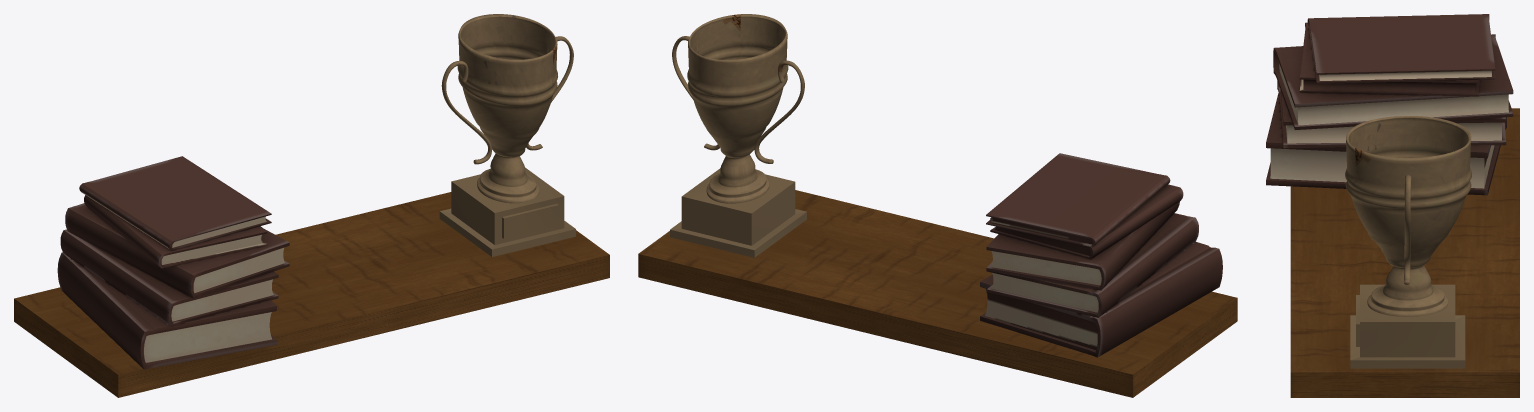
File: raft1_retopo_2.fbx
The picture shows the model from 3 angles, left to right: view 1: azimuth 30°, elevation 25°; view 2: azimuth 150°, elevation 25°; view 3: azimuth 270°, elevation 25°; orthographic projection. The views are drawn at different scales.
Parts seen in each view (by area): view 1: Cube, Cube.001, Circle; view 2: Cube, Cube.001, Circle; view 3: Cube, Cube.001, Circle.
Part boxes in pixels (x1=…): Cube: x1=14, y1=192, x2=609, y2=397; Cube.001: x1=57, y1=156, x2=289, y2=369; Circle: x1=439, y1=14, x2=575, y2=256; Cube: x1=638, y1=190, x2=1237, y2=397; Cube.001: x1=980, y1=153, x2=1222, y2=357; Circle: x1=670, y1=14, x2=806, y2=257; Cube: x1=1290, y1=108, x2=1519, y2=397; Cube.001: x1=1266, y1=14, x2=1513, y2=195; Circle: x1=1345, y1=116, x2=1471, y2=368.
Bounding box in the file's own units: 601 × 241 × 236.
